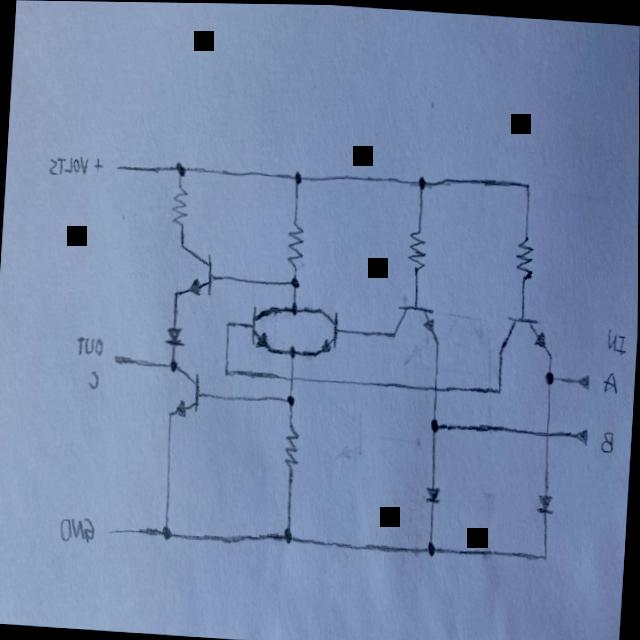diode: (534, 482, 558, 520), (423, 476, 446, 512), (162, 318, 187, 348)
junction: (153, 516, 179, 548), (534, 419, 558, 451), (420, 533, 443, 564), (280, 519, 299, 550), (535, 540, 555, 569), (423, 413, 446, 437), (486, 375, 509, 399), (281, 386, 303, 411), (170, 156, 191, 182), (414, 167, 432, 197), (289, 166, 309, 193), (425, 376, 446, 399), (167, 351, 184, 376), (219, 359, 236, 384), (542, 364, 557, 388), (283, 341, 301, 361), (519, 175, 536, 195), (287, 270, 302, 291), (287, 297, 300, 320), (223, 312, 235, 335), (286, 368, 303, 383)
resistor: (511, 228, 538, 286), (405, 222, 431, 279), (283, 213, 306, 271), (281, 423, 304, 473), (167, 183, 190, 231)
terminal: (109, 346, 139, 368), (569, 419, 592, 446), (103, 521, 130, 541), (572, 367, 593, 390), (113, 158, 132, 177)
text: (55, 512, 101, 549), (49, 151, 90, 181), (75, 330, 109, 359), (605, 326, 630, 358), (601, 367, 623, 394), (601, 426, 618, 453), (87, 367, 103, 391), (93, 154, 106, 177)
transistor: (490, 310, 558, 362), (382, 299, 446, 350), (171, 244, 219, 299), (311, 296, 347, 365), (243, 297, 282, 356), (174, 359, 206, 423)
